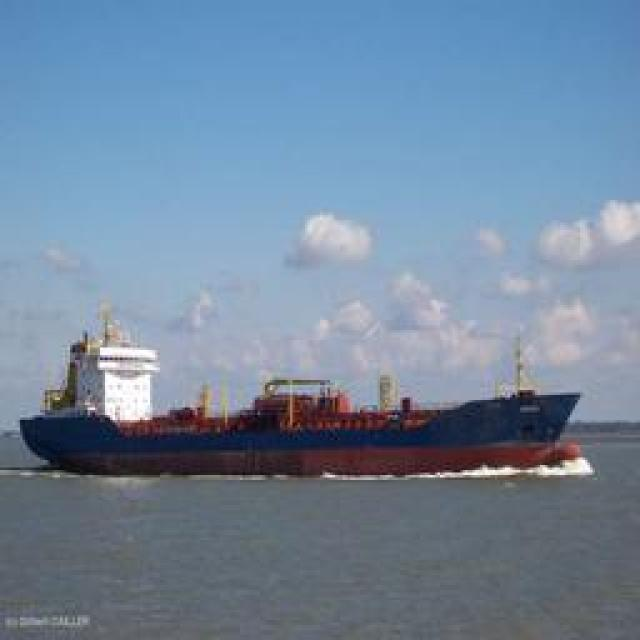CIV_Ship: (39, 314, 602, 478)
